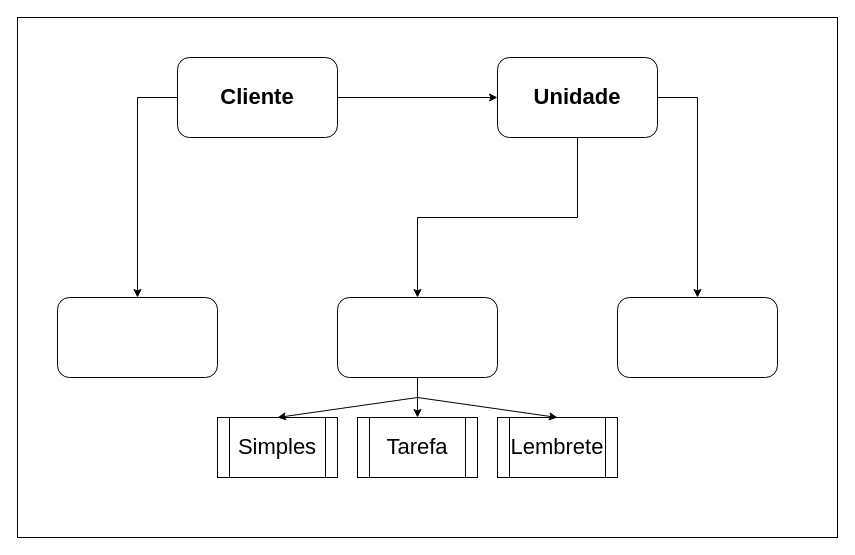
The diagram is 855 pixels wide and 555 high, and some of its shapes have lost their labels. The box of each missing label's shape, as (x1, y1, x2, y2) in pixels:
Contacto: (56, 296, 218, 378)
Nota: (336, 296, 498, 378)
Produto: (616, 296, 778, 378)
